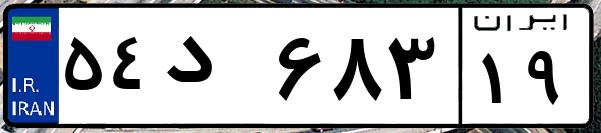1: (475, 38, 525, 113)
3: (385, 28, 445, 110)
4: (110, 28, 158, 98)
5: (57, 26, 110, 100)
6: (270, 28, 330, 110)
8: (330, 28, 385, 110)
9: (525, 38, 570, 115)
د: (158, 20, 270, 120)
